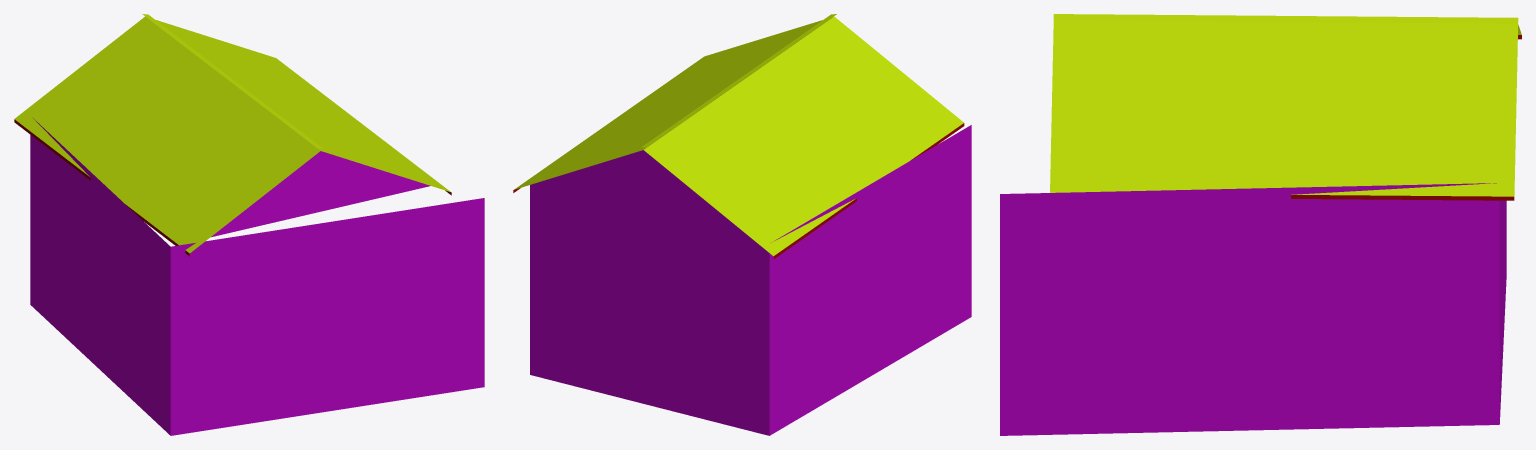
3 renders of one model, left to right at view 1: azimuth 30°, elevation 25°; view 2: azimuth 150°, elevation 25°; view 3: azimuth 270°, elevation 25°, orthographic. The views are drawn at different scales.
Visible parts, largest first — view 1: sc_143; view 2: sc_143; view 3: sc_143.
Boxes of the visible parts, x1,y1,x2,y2 form: sc_143: [14, 14, 484, 435]; sc_143: [513, 14, 971, 435]; sc_143: [1000, 14, 1521, 435].
Bounding box in the file's own units: 11.25 × 9.74 × 13.93.
